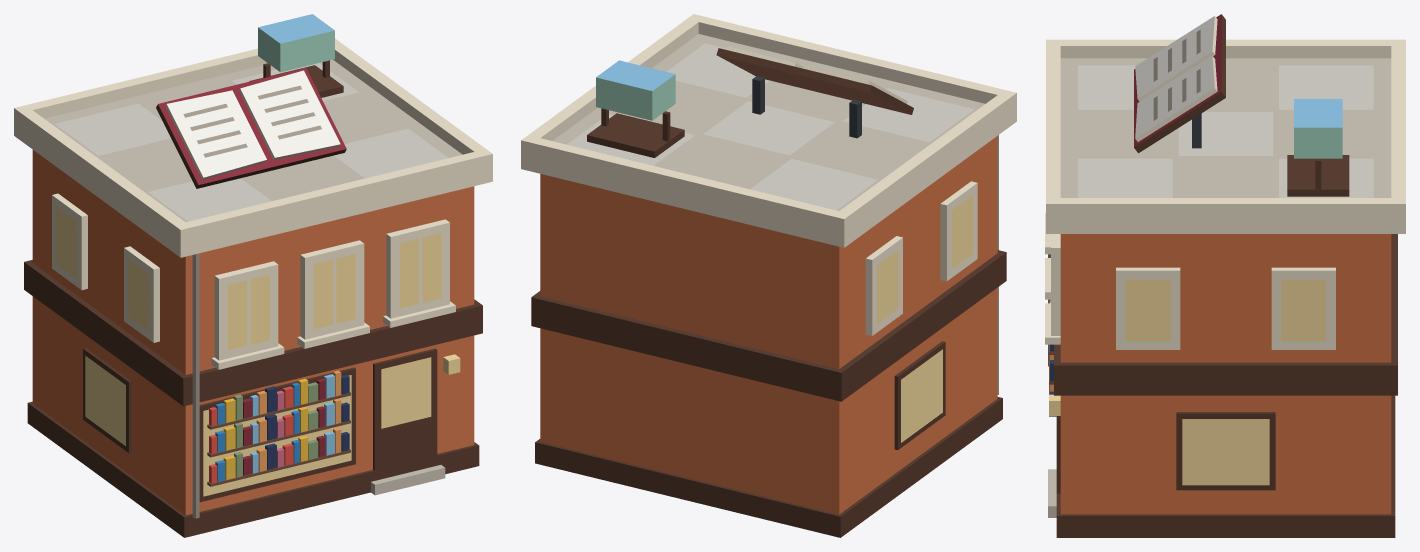
Rendered from B_Bookstore.fbx.
3 views of the same model, side by side, from view 1: azimuth 30°, elevation 25°; view 2: azimuth 150°, elevation 25°; view 3: azimuth 270°, elevation 25° (orthographic). The views are drawn at different scales.
Parts seen in each view (by area): view 1: B_Bookstore; view 2: B_Bookstore; view 3: B_Bookstore.
Part boxes in pixels (box(x1,y1,x2,y2)): B_Bookstore: box(14, 14, 492, 537); B_Bookstore: box(521, 14, 1016, 537); B_Bookstore: box(1045, 14, 1405, 537).
Bounding box in the file's own units: 4 × 4.49 × 3.71.
